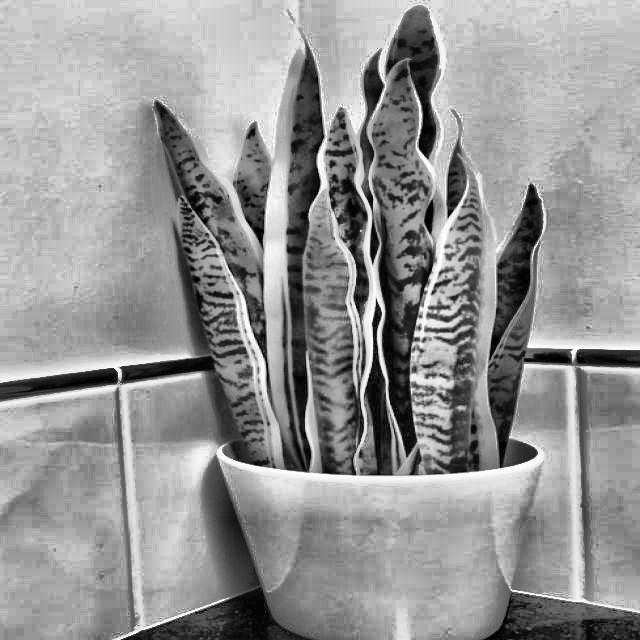plants: (126, 21, 544, 640)
